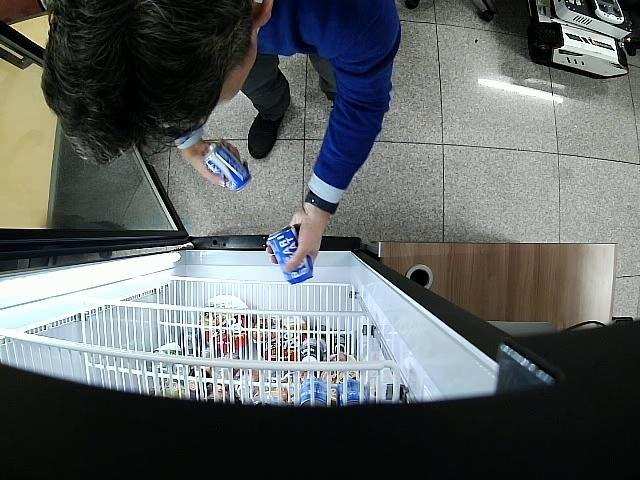13_pocariSweat: (266, 227, 313, 284), (202, 142, 252, 192)
